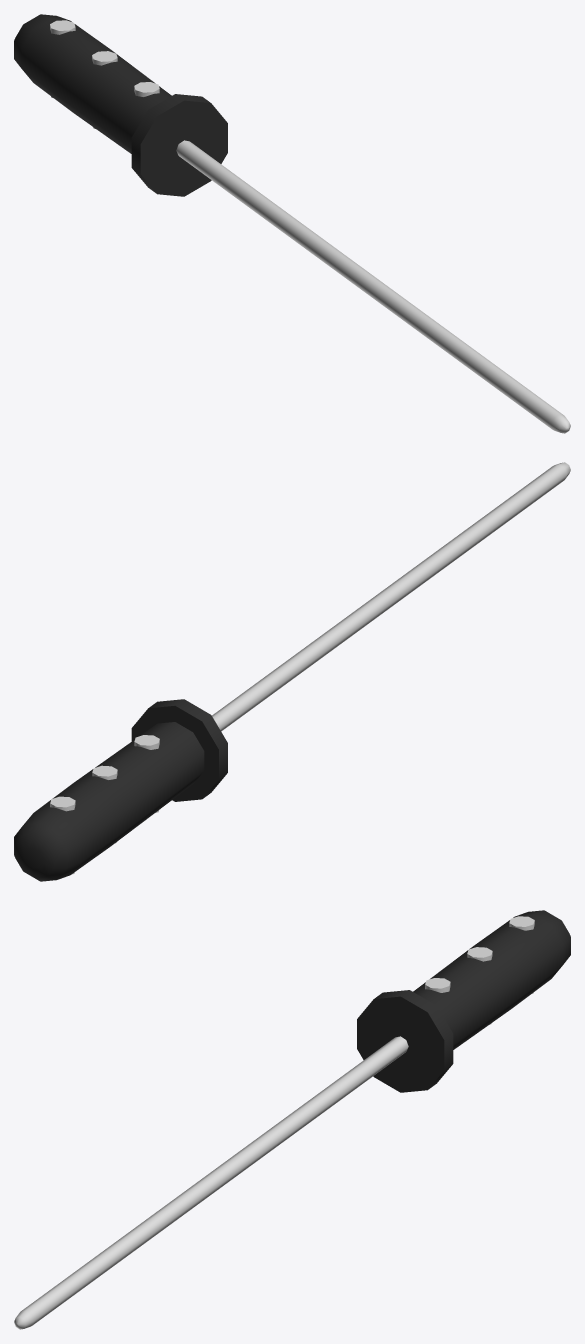
The model's file is KnifeSharpener_01.fbx.
3 renders of one model, top to bottom at view 1: azimuth 30°, elevation 25°; view 2: azimuth 150°, elevation 25°; view 3: azimuth 330°, elevation 25°, orthographic.
Parts seen in each view (by area): view 1: KnifeSharpener_01; view 2: KnifeSharpener_01; view 3: KnifeSharpener_01.
Part boxes in pixels (bbox=[...]): KnifeSharpener_01: bbox=[14, 14, 570, 433]; KnifeSharpener_01: bbox=[14, 462, 570, 881]; KnifeSharpener_01: bbox=[14, 910, 570, 1329].
Bounding box in the file's own units: 0.0274 × 0.0288 × 0.2897.
